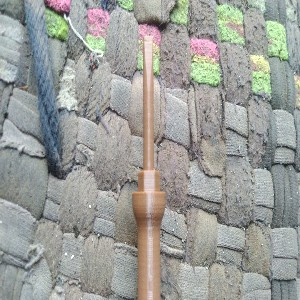obeng: (131, 34, 166, 300)
